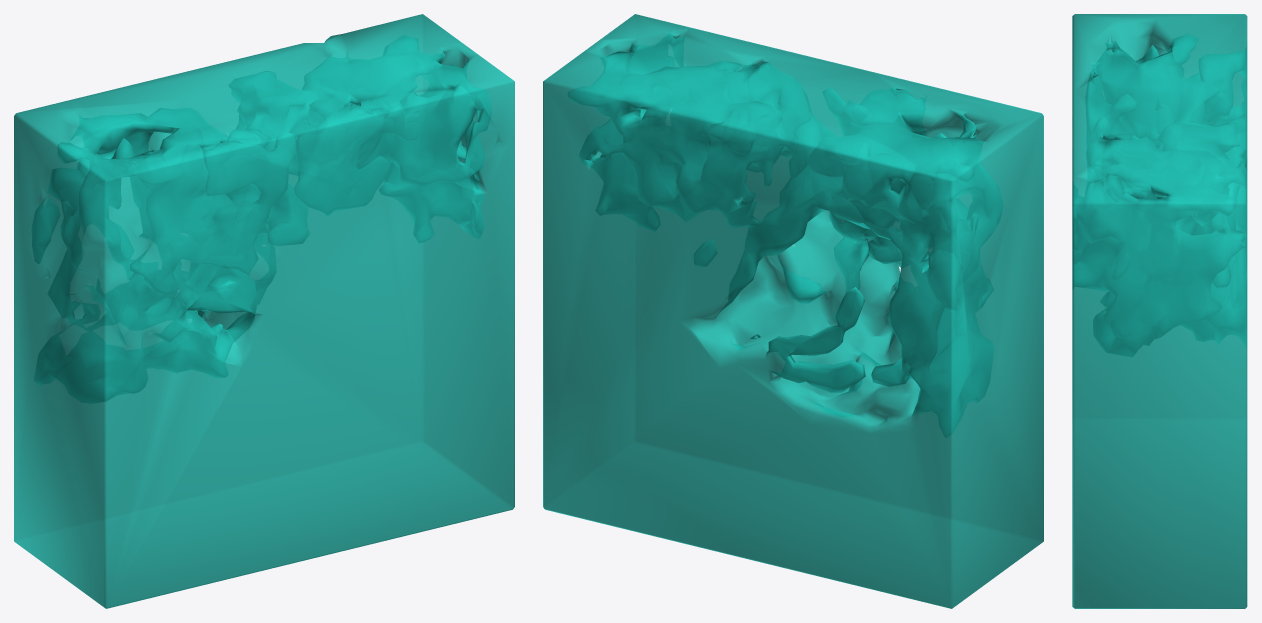
3 renders of one model, left to right at view 1: azimuth 30°, elevation 25°; view 2: azimuth 150°, elevation 25°; view 3: azimuth 270°, elevation 25°, orthographic. The views are drawn at different scales.
Visible parts, largest first — view 1: Liquid_Domain; view 2: Liquid_Domain; view 3: Liquid_Domain.
Part boxes in pixels (x1,y1,x2,y2): Liquid_Domain: (14, 14, 514, 608); Liquid_Domain: (543, 14, 1043, 608); Liquid_Domain: (1072, 14, 1247, 608).
Size of the model in its own units: 884 by 884 by 345.
